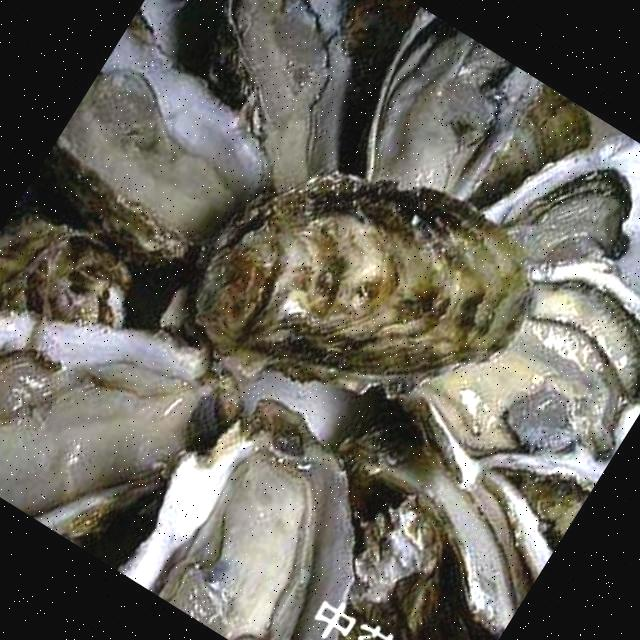Oyster-Closed: (171, 159, 552, 407), (0, 190, 147, 348), (459, 78, 613, 216), (327, 0, 432, 187)
Oyster-Open: (35, 0, 282, 287), (378, 244, 640, 502), (0, 299, 253, 554), (107, 393, 368, 640), (325, 396, 538, 640), (355, 2, 548, 212), (198, 0, 359, 193), (472, 136, 640, 295), (474, 458, 599, 591)
